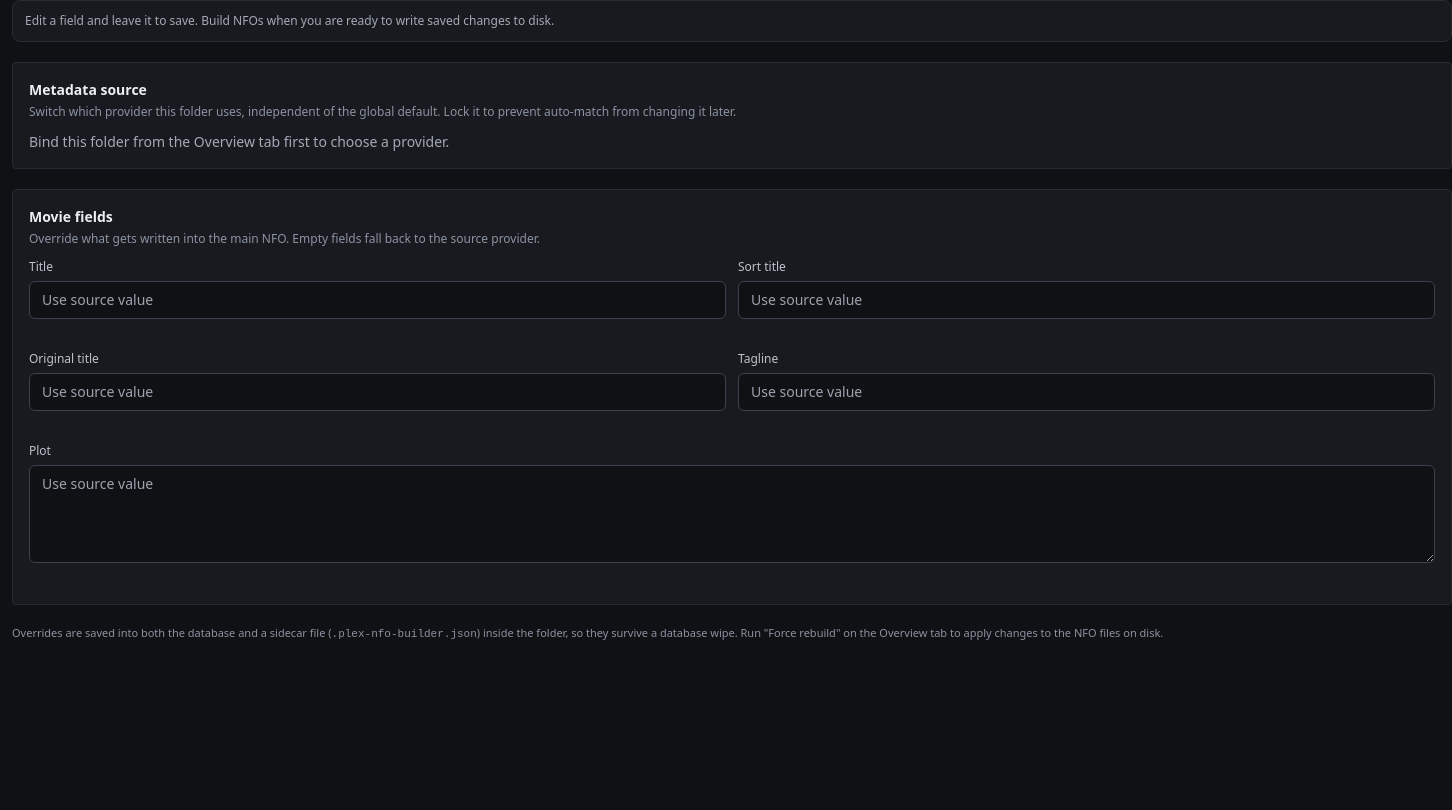
Test case: keeps failed metadata edits available for retry
Type "My title" into the field labelled "Title". click: (378, 300)
box: top-left (29, 281), bottom-right (726, 319)
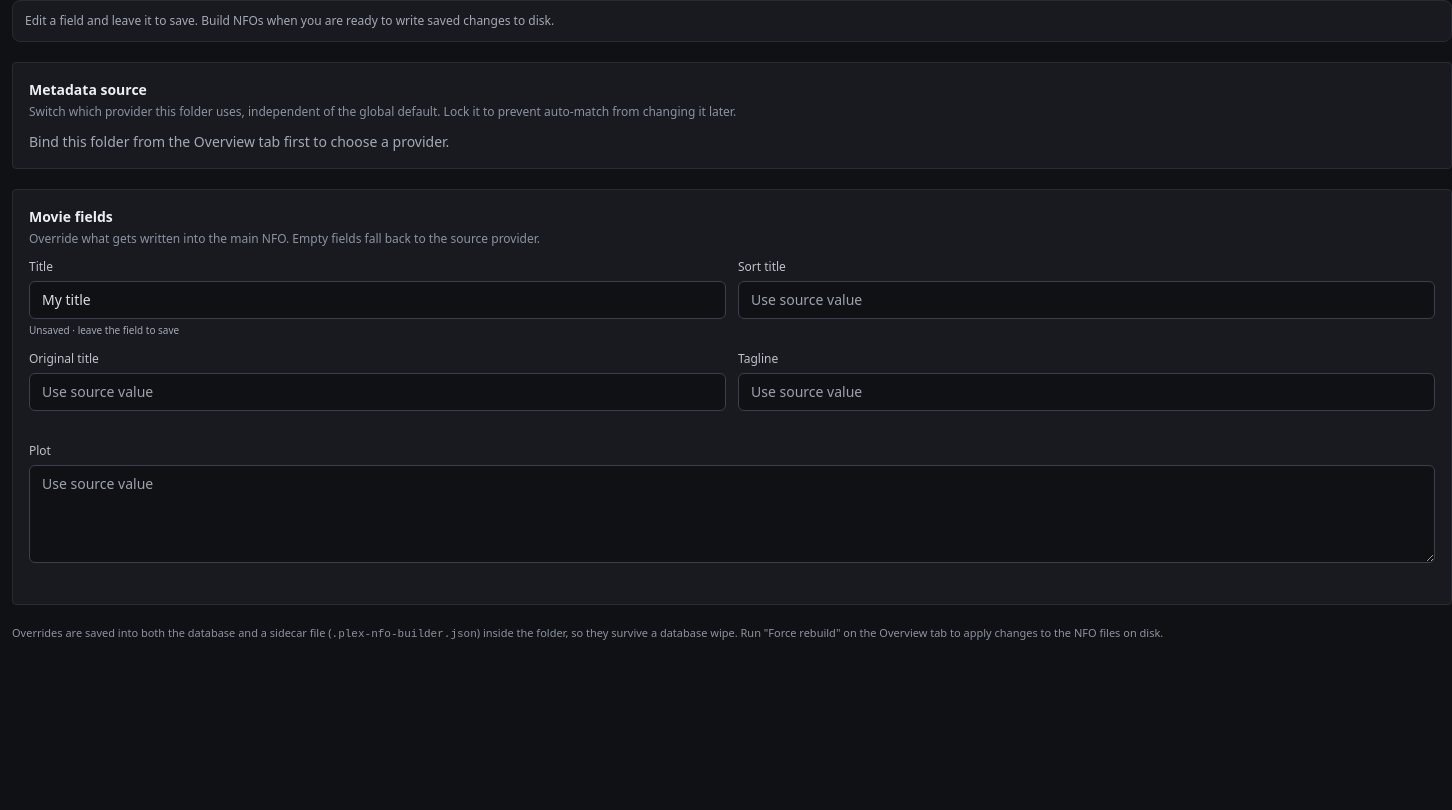
Leave the field labelled "Title", box top-left (29, 281), bottom-right (726, 319)
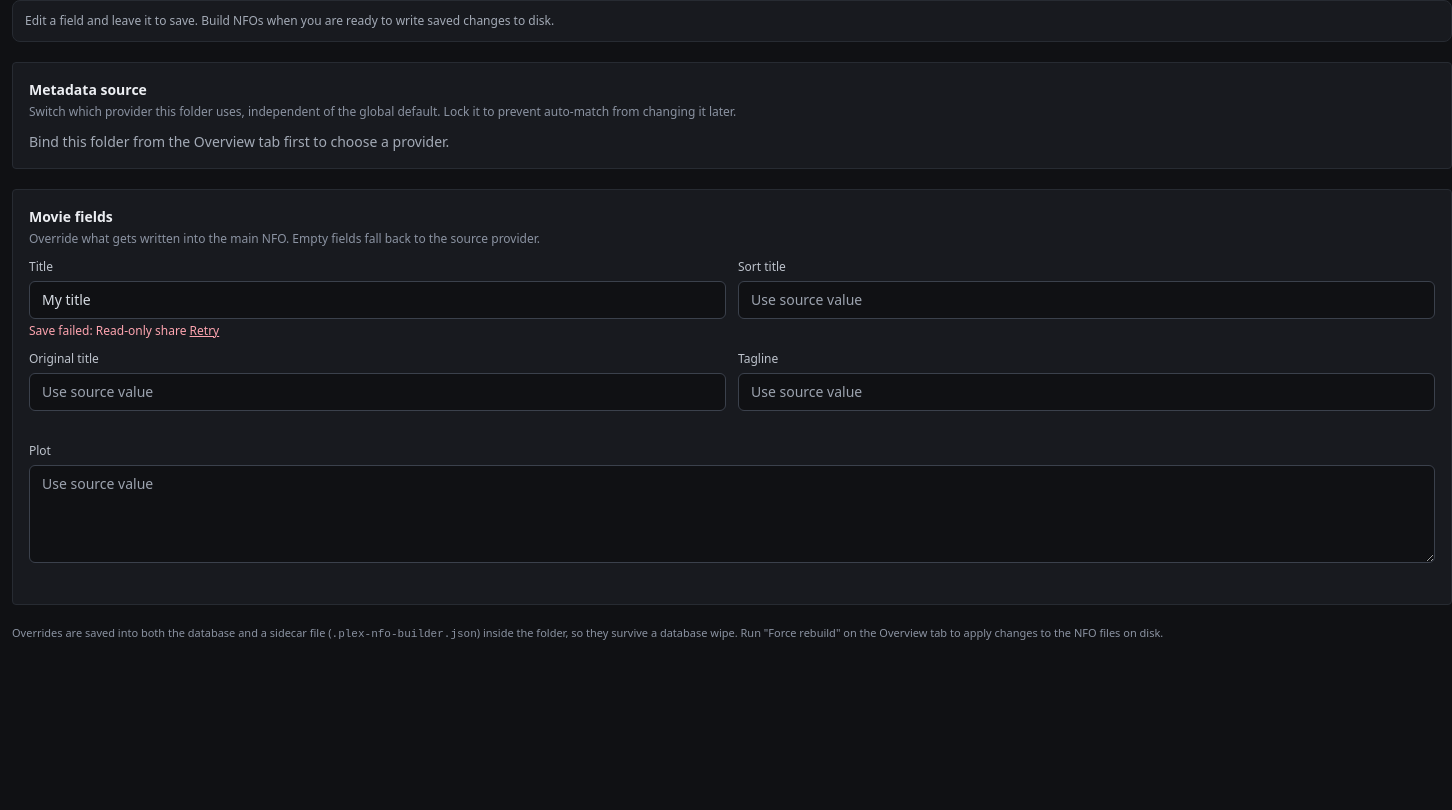
Result: the message "Save failed: Read-only share Retry" is shown at top-left (29, 322), bottom-right (219, 339)
Result: the button "Retry" is enabled at top-left (190, 323), bottom-right (219, 339)
